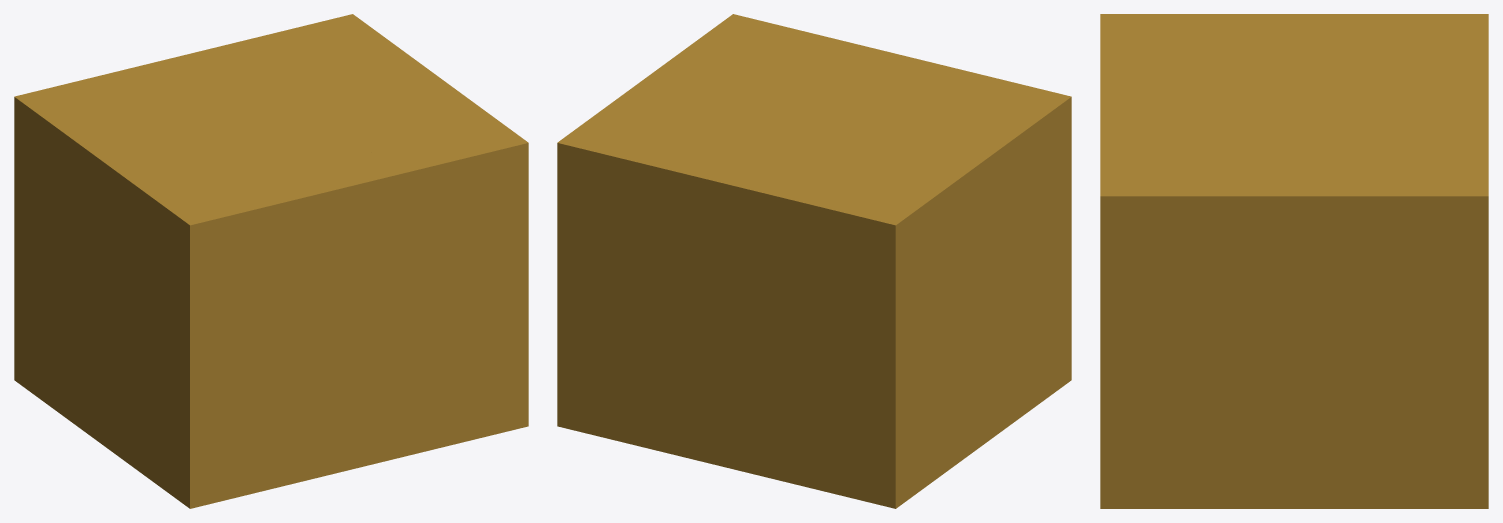
The model's file is casa3techoA.obj.
The picture shows the model from 3 angles, left to right: view 1: azimuth 30°, elevation 25°; view 2: azimuth 150°, elevation 25°; view 3: azimuth 270°, elevation 25°; orthographic projection. The views are drawn at different scales.
Visible parts, largest first — view 1: Wall.021; view 2: Wall.021; view 3: Wall.021.
Part boxes in pixels (x1,y1,x2,y2): Wall.021: [14, 14, 528, 508]; Wall.021: [557, 14, 1071, 508]; Wall.021: [1100, 14, 1488, 508].
Bounding box in the file's own units: 5 × 4 × 4.5.
Materials: 6 (6 with a texture image).
